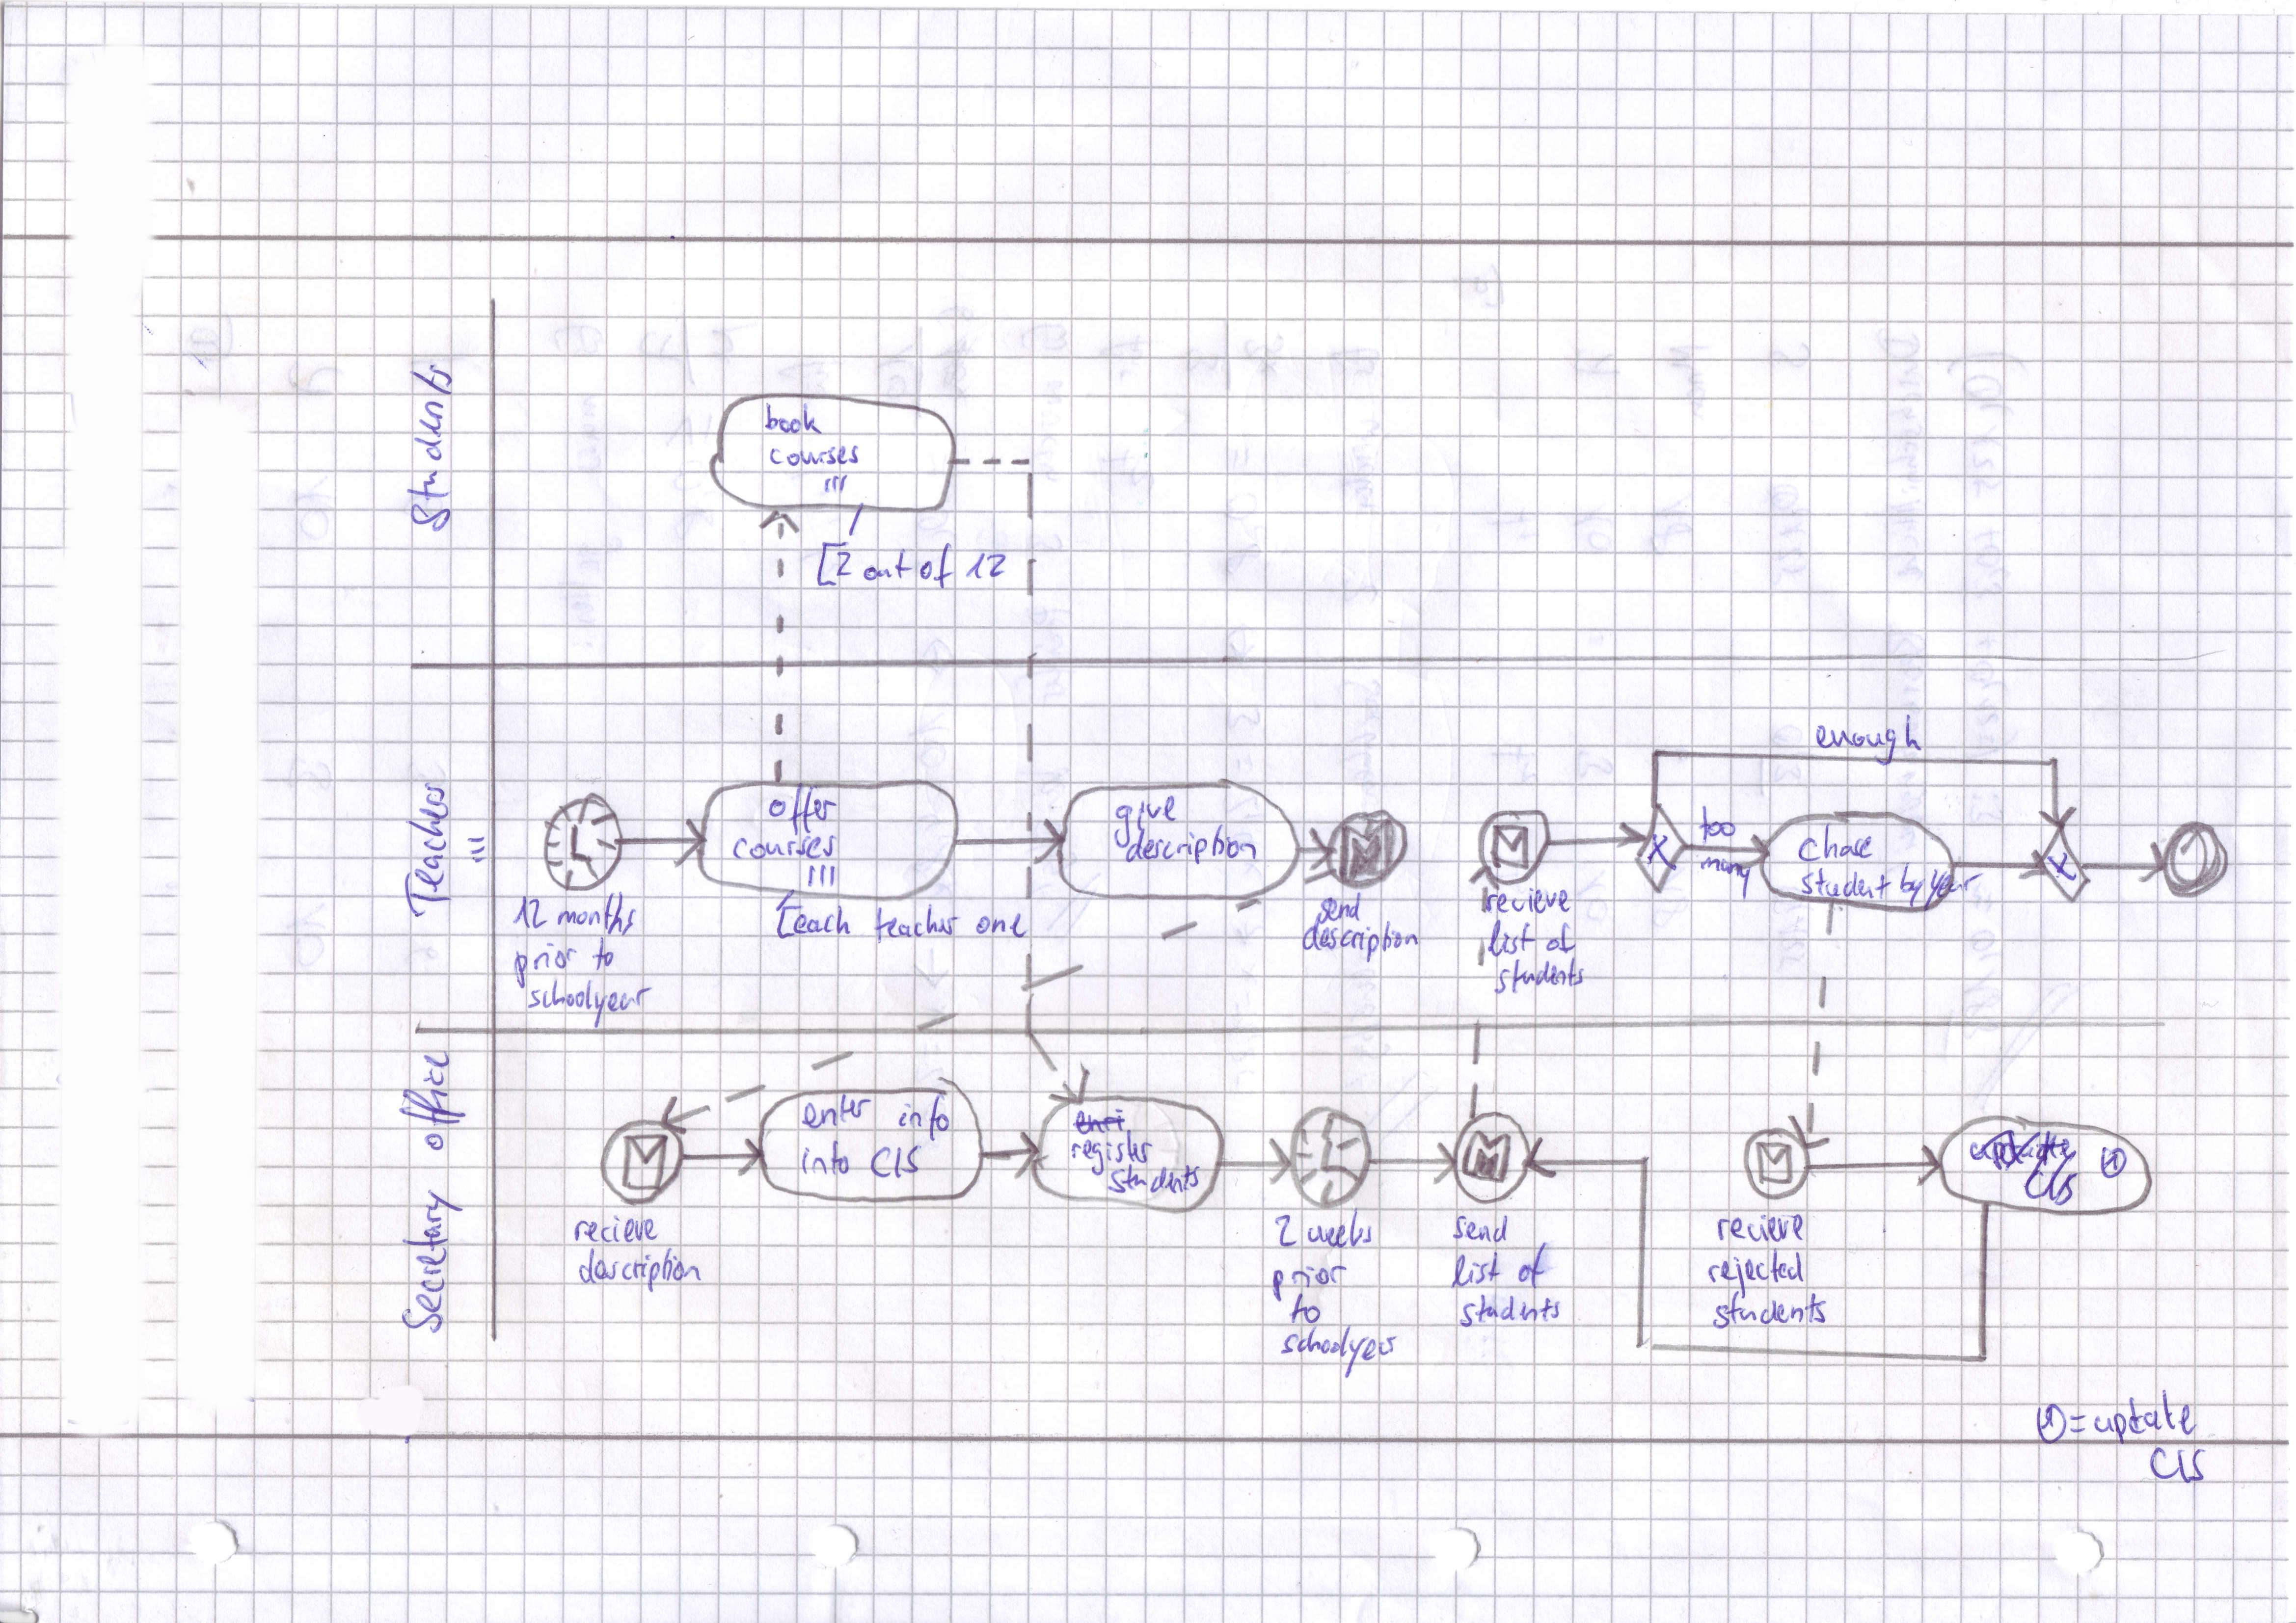1: (2041, 1405, 2057, 1434)
12: (960, 541, 1007, 592), (511, 895, 552, 936)
2: (1272, 1213, 1299, 1249), (834, 548, 852, 578)
CIS: (2147, 1446, 2206, 1482), (865, 1143, 922, 1180)
Secretary: (399, 1187, 463, 1334)
Send: (1450, 1215, 1510, 1243)
Students: (405, 368, 456, 532), (1106, 1163, 1203, 1195)
Teachers: (403, 777, 453, 918)
[each: (774, 901, 854, 939)
book: (758, 403, 829, 440)
by: (1896, 863, 1925, 905)
chose: (1795, 824, 1883, 868)
courses: (728, 831, 842, 865), (765, 441, 863, 472)
description: (576, 1246, 703, 1291), (1122, 826, 1260, 864), (1301, 924, 1420, 957)
enough: (1810, 714, 1918, 766)
enter: (800, 1092, 871, 1131)
give: (1110, 796, 1183, 833)
info: (896, 1093, 951, 1139)
into: (799, 1137, 850, 1176)
list: (1486, 919, 1537, 958), (1450, 1251, 1501, 1289)
many: (1695, 856, 1756, 897)
months: (557, 894, 636, 935)
of: (911, 541, 953, 589), (1515, 1241, 1549, 1290), (1543, 921, 1578, 955)
offer: (764, 786, 836, 831)
office: (396, 1052, 467, 1152)
one: (970, 914, 1027, 943)
out: (855, 550, 904, 589)
prior: (508, 934, 580, 986), (1269, 1263, 1347, 1303)
recieve: (1713, 1213, 1806, 1245), (1486, 885, 1574, 915), (571, 1217, 658, 1247)
register: (1067, 1129, 1154, 1175)
rejected: (1705, 1248, 1806, 1290)
schoolyear: (524, 978, 653, 1027), (1278, 1324, 1398, 1378)
send: (1315, 891, 1363, 924)
student: (1795, 864, 1885, 905)
students: (1712, 1291, 1827, 1330), (1491, 956, 1586, 995), (1457, 1294, 1561, 1329)
teacher: (864, 905, 962, 942)
to: (1287, 1291, 1323, 1327), (587, 933, 615, 978)
too: (1698, 804, 1738, 846)
update: (2091, 1389, 2198, 1442)
weeks: (1306, 1207, 1376, 1251)
year: (1918, 857, 1987, 903)
